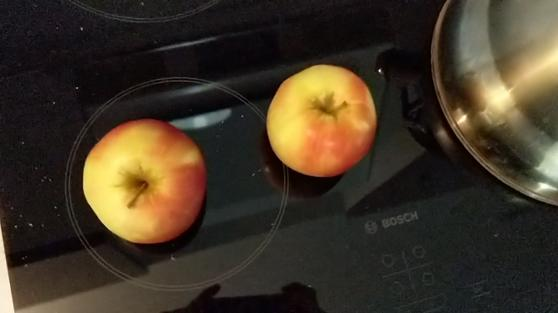apple: (74, 113, 209, 252), (264, 60, 377, 177)
